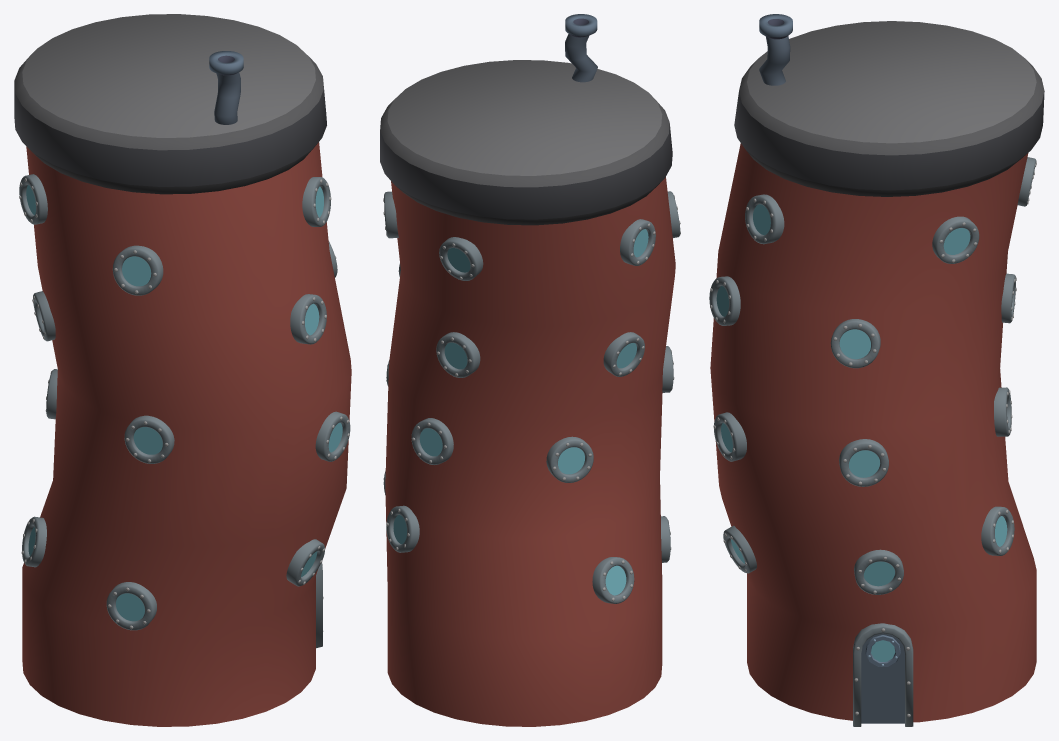
Rendered from building4.fbx.
3 renders of one model, left to right at view 1: azimuth 30°, elevation 25°; view 2: azimuth 150°, elevation 25°; view 3: azimuth 270°, elevation 25°, orthographic. The views are drawn at different scales.
Parts seen in each view (by area): view 1: sb_bb_b1; view 2: sb_bb_b1; view 3: sb_bb_b1.
Part boxes in pixels (<box>): sb_bb_b1: <box>14,14,351,726</box>; sb_bb_b1: <box>380,14,680,726</box>; sb_bb_b1: <box>709,14,1044,726</box>.
Bounding box in the file's own units: 228 × 488 × 231.
Materials: 1 (1 with a texture image).
